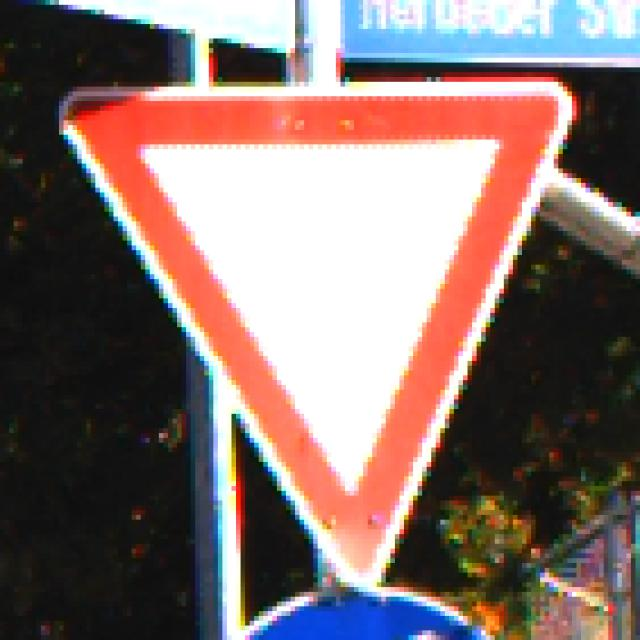Give Way: (56, 59, 587, 588)
